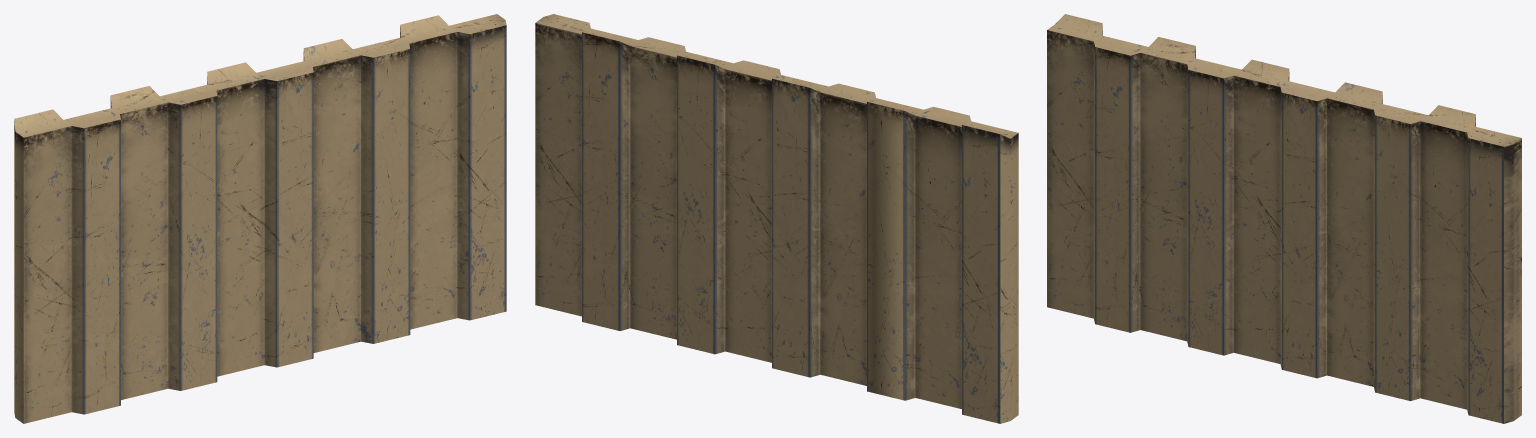
File: CnWallA1Top.fbx
The picture shows the model from 3 angles, left to right: view 1: azimuth 30°, elevation 25°; view 2: azimuth 150°, elevation 25°; view 3: azimuth 330°, elevation 25°; orthographic projection. The views are drawn at different scales.
Visible parts, largest first — view 1: CnWallA1Top; view 2: CnWallA1Top; view 3: CnWallA1Top.
Boxes of the visible parts, bbox=[...] form: CnWallA1Top: bbox=[14, 14, 506, 423]; CnWallA1Top: bbox=[535, 14, 1018, 423]; CnWallA1Top: bbox=[1047, 14, 1521, 423].
Bounding box in the file's own units: 200 × 116 × 14.
